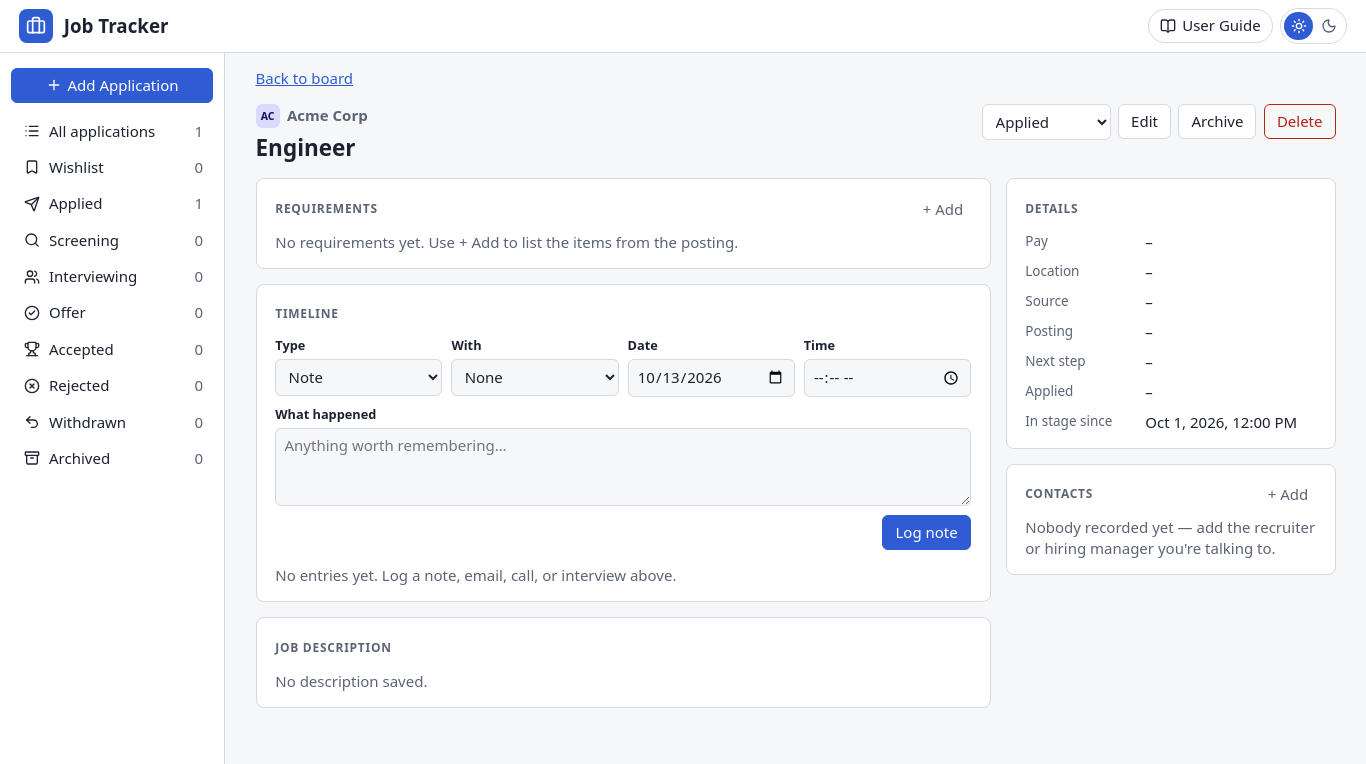
Scenario: the Requirements section › adds an item unmet in its group, closes the form, and offers the same kind next time (AC-6)
This screenshot has width=1366, height=764.
Click the button with aria-label "Add requirement". click: (943, 209)
box: x1=915 y1=195 x2=971 y2=223
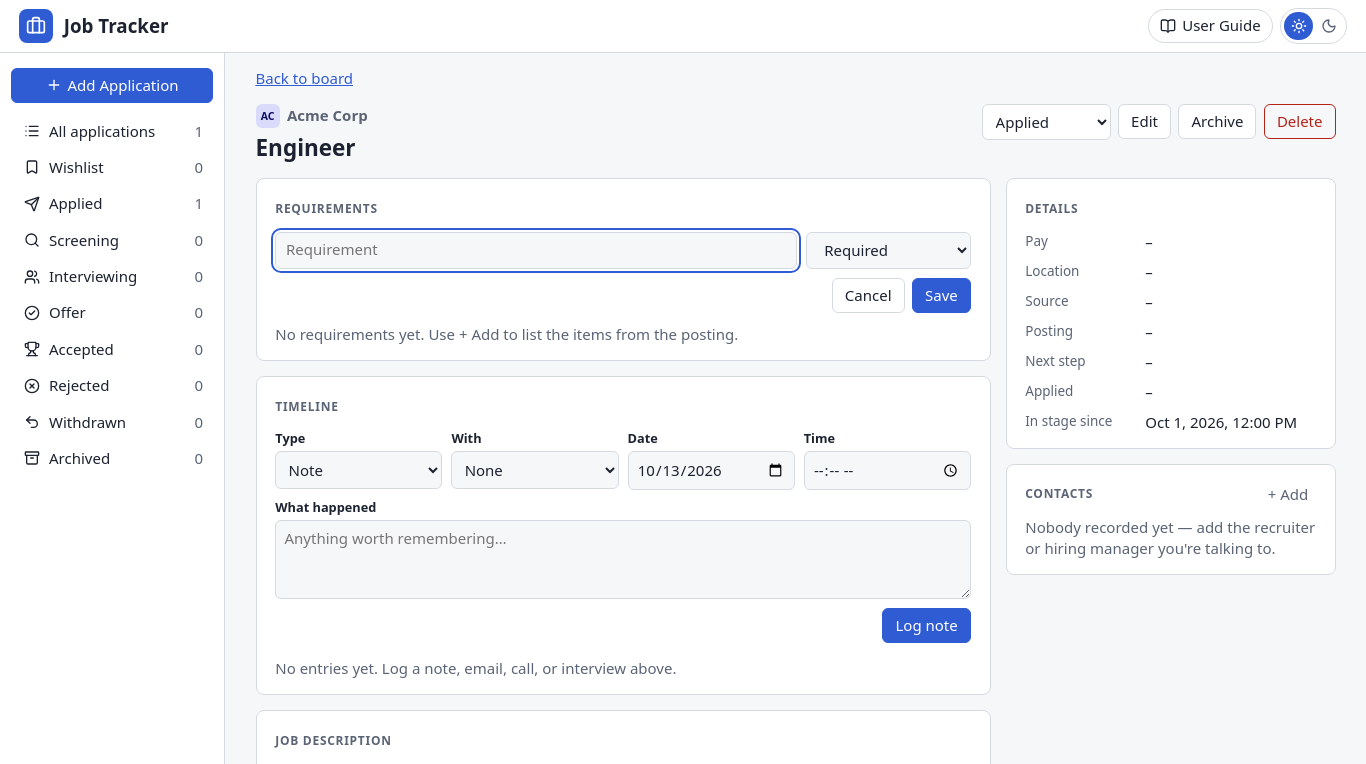
Select "Preferred" in the dropdown named "Kind". click: (888, 250)
box: x1=806 y1=232 x2=971 y2=269
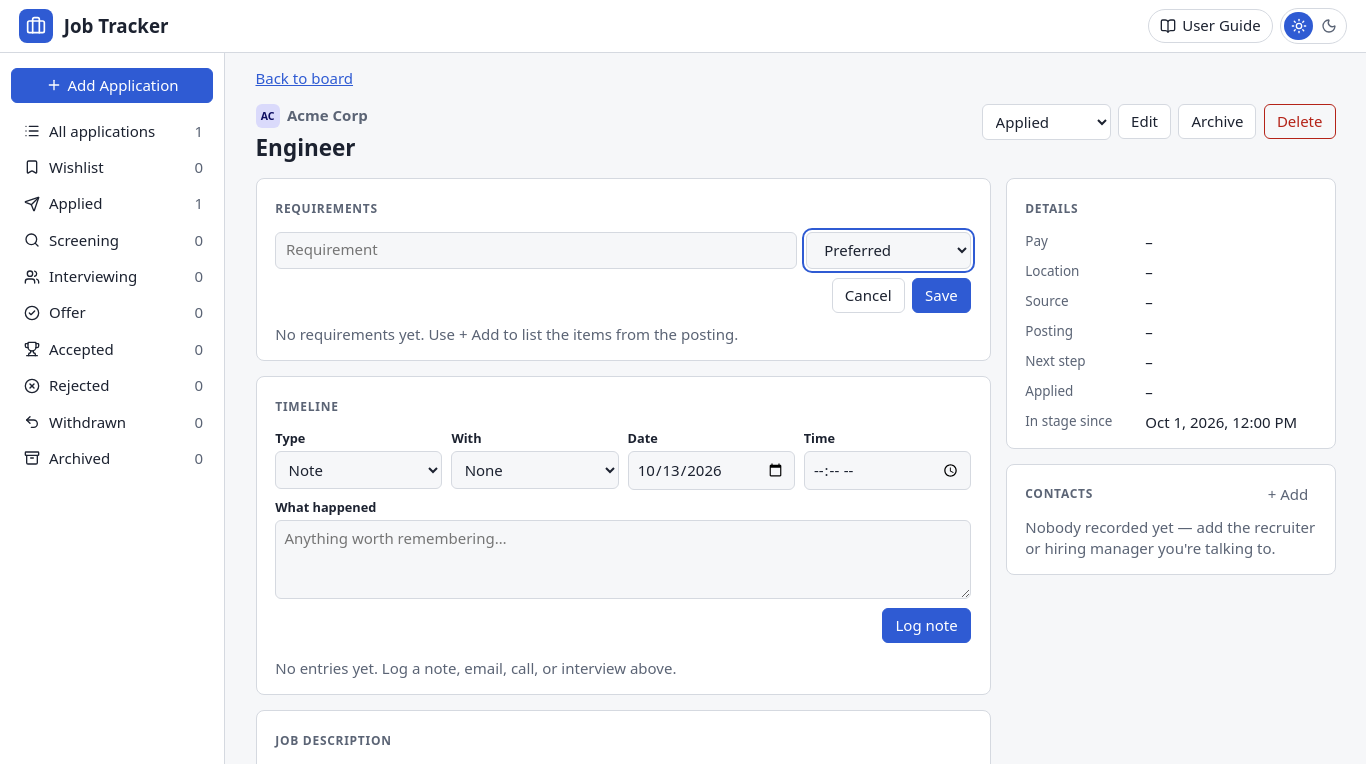
Type "Rust" into the text box named "Text". click: (536, 250)
box: x1=275 y1=232 x2=797 y2=268
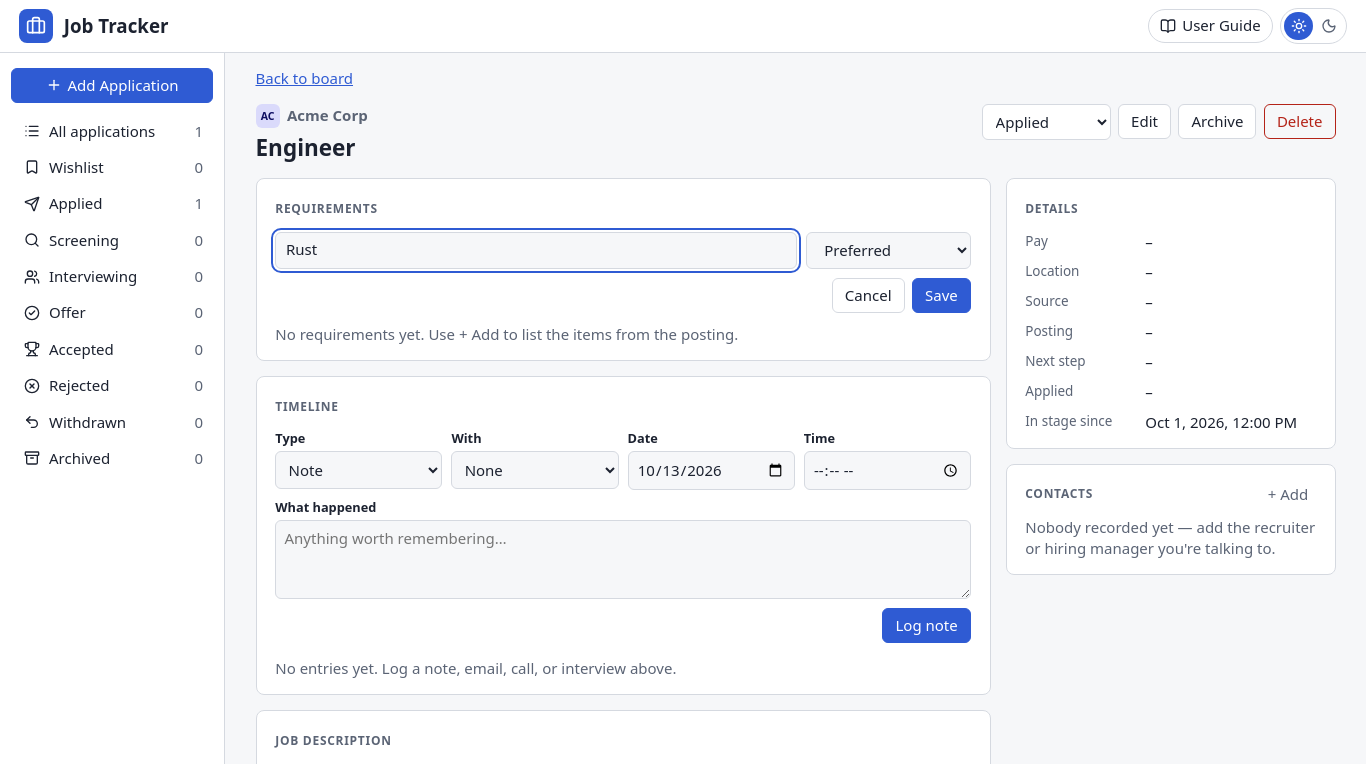
Click the button "Save". click: (941, 296)
box: x1=912 y1=278 x2=971 y2=313
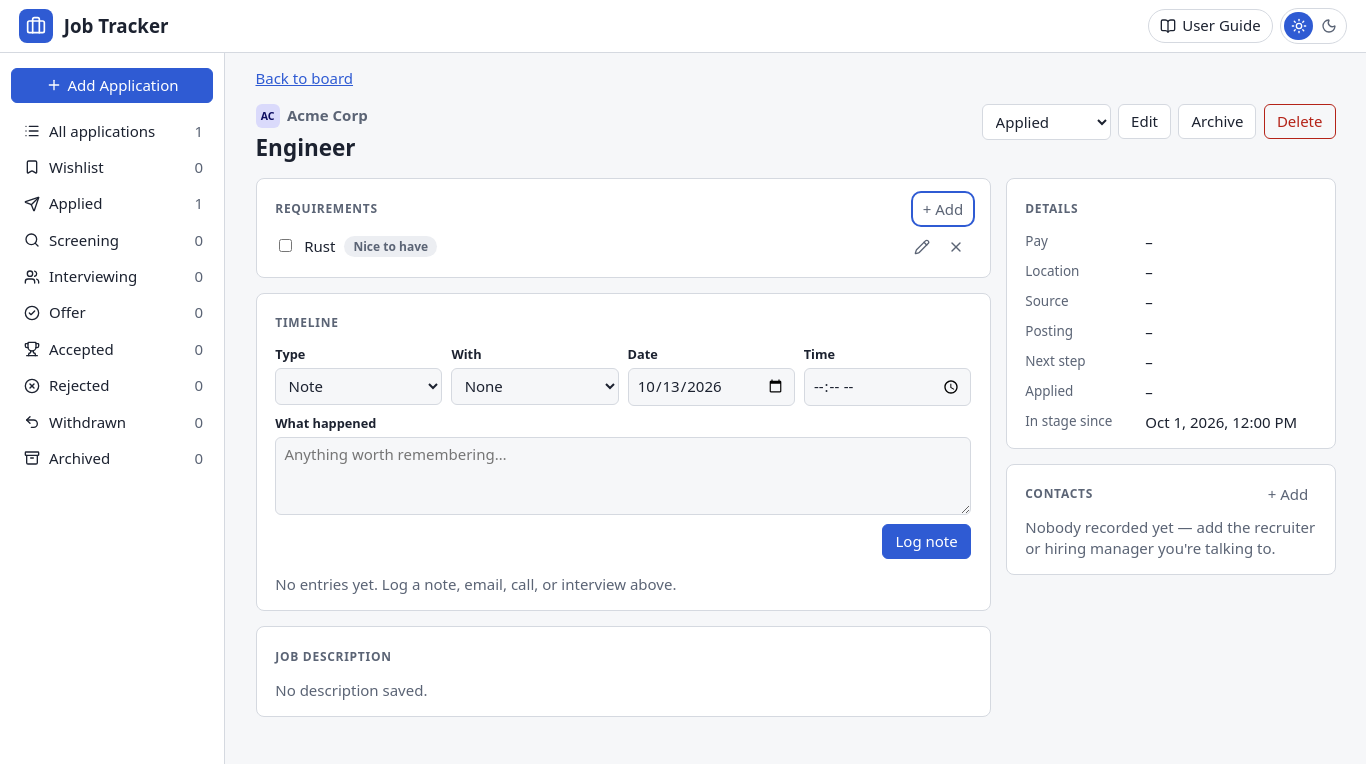
Check: the form "Cancel Save" is not shown
Check: the checkbox is not checked, box x1=279 y1=239 x2=292 y2=252
Click the button with aria-label "Add requirement". click: (943, 209)
box: x1=915 y1=195 x2=971 y2=223
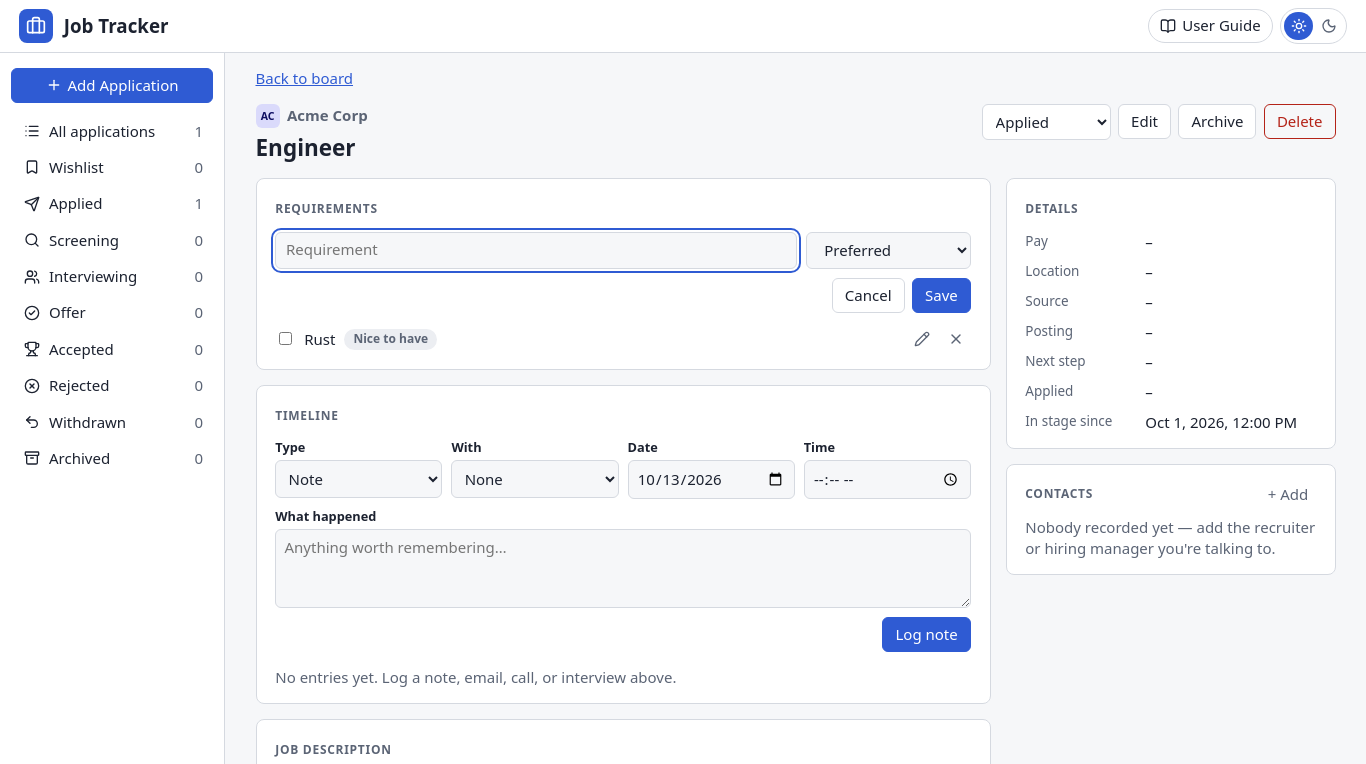
Check: the text box named "Text" is empty, box x1=275 y1=232 x2=797 y2=268
Check: the dropdown named "Kind" shows "Preferred", box x1=806 y1=232 x2=971 y2=269
